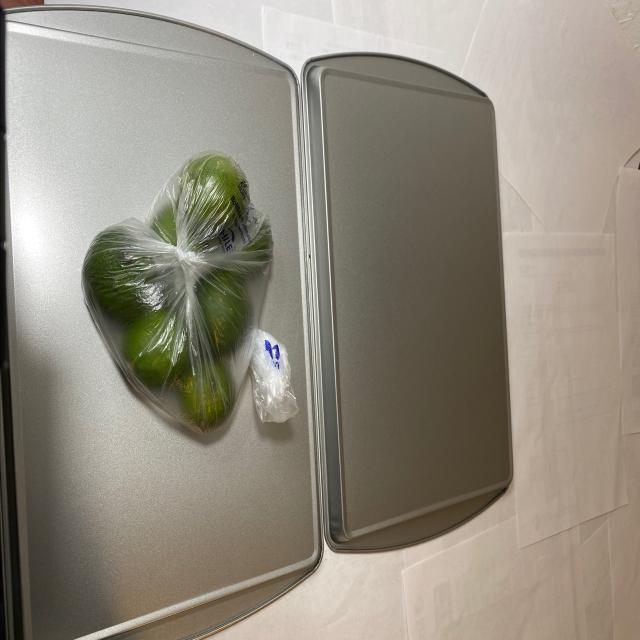lemon: (79, 151, 285, 448)
